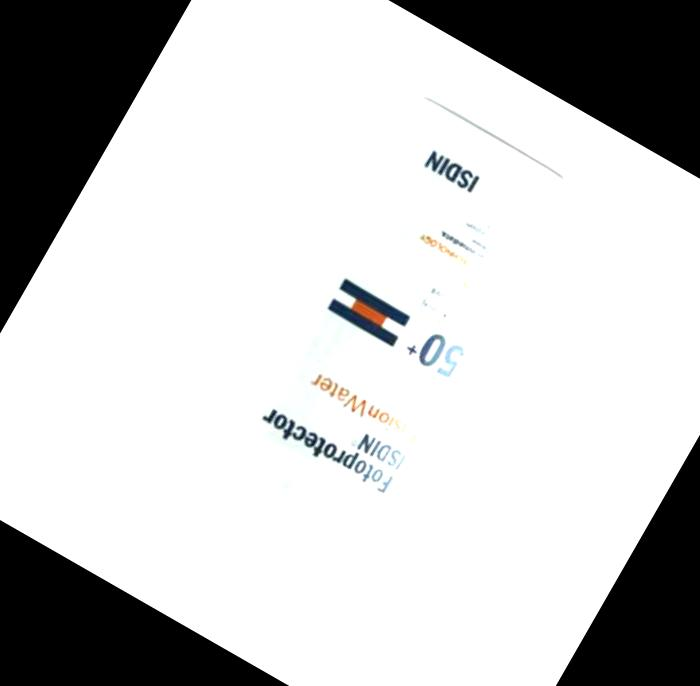cosmetic: (140, 75, 592, 631)
